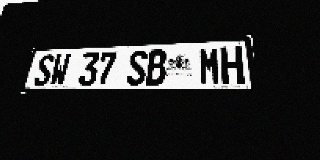3: (78, 52, 100, 86)
7: (95, 51, 117, 86)
B: (146, 49, 167, 85)
H: (220, 46, 245, 85)
M: (199, 47, 221, 85)
S: (126, 50, 148, 86), (33, 54, 55, 86)
W: (48, 53, 71, 86)
